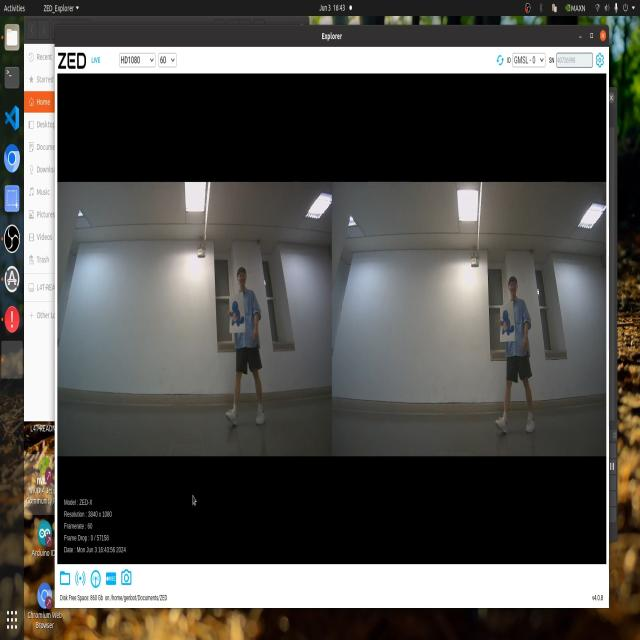blue: (497, 308, 519, 345), (227, 304, 248, 332)
